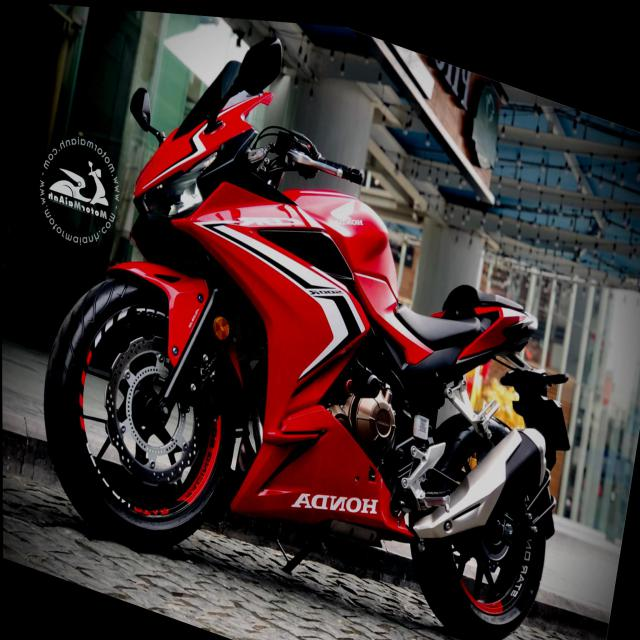CBR500R: (18, 1, 619, 640)
